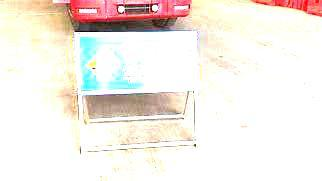sign: (75, 32, 197, 90)
